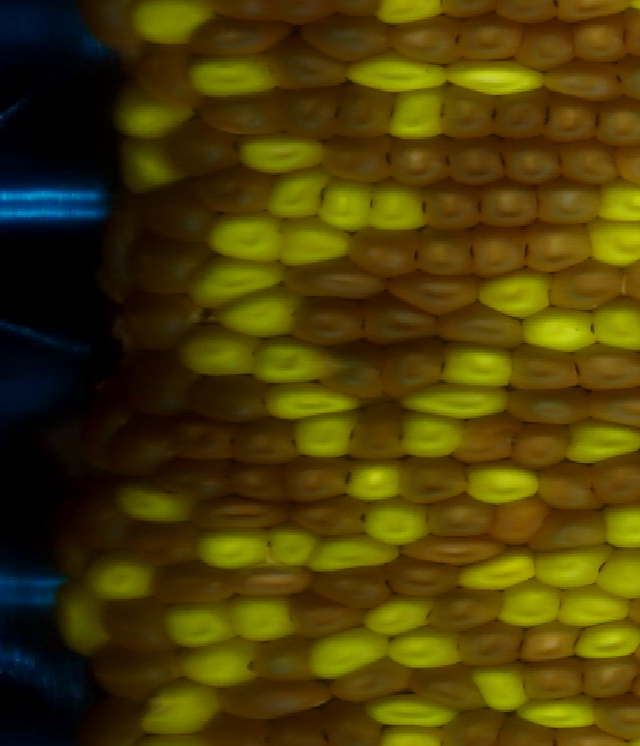fluorescent: (399, 374, 517, 427), (340, 44, 456, 97), (135, 678, 240, 734), (439, 48, 550, 99), (276, 208, 360, 274), (172, 643, 275, 695), (258, 333, 350, 390), (172, 325, 263, 380), (305, 630, 404, 680), (194, 256, 291, 306), (470, 262, 554, 319), (515, 299, 602, 354), (226, 132, 338, 174), (202, 211, 289, 265), (460, 456, 547, 507), (365, 170, 431, 235), (438, 335, 514, 391), (218, 287, 303, 337), (230, 587, 302, 646), (381, 623, 471, 670), (189, 53, 284, 97), (462, 550, 549, 597), (257, 381, 360, 420), (267, 167, 336, 225), (133, 1, 221, 46), (394, 413, 476, 461), (163, 598, 241, 648), (310, 532, 402, 574), (528, 544, 610, 590), (310, 178, 378, 233), (465, 662, 541, 711), (565, 416, 640, 465), (65, 595, 120, 661), (288, 411, 363, 459), (115, 482, 189, 530), (389, 88, 452, 143), (118, 144, 188, 193), (581, 209, 640, 267), (589, 292, 640, 359), (121, 97, 203, 138), (557, 583, 633, 627), (334, 457, 405, 504), (517, 696, 600, 735), (494, 578, 565, 623), (366, 498, 429, 548), (93, 555, 157, 603), (202, 530, 276, 571), (371, 597, 441, 635), (270, 524, 320, 576), (598, 497, 640, 553), (575, 619, 640, 655), (596, 172, 640, 223), (596, 551, 640, 598), (376, 2, 449, 29)
nonfluorescent: (118, 38, 207, 113), (288, 250, 397, 302), (362, 290, 450, 353), (125, 361, 207, 427), (410, 659, 500, 718), (298, 12, 398, 64), (98, 587, 175, 654), (223, 678, 336, 723), (88, 648, 182, 702), (115, 297, 204, 354), (439, 297, 528, 354), (188, 486, 291, 535), (266, 40, 363, 92), (186, 375, 278, 429), (345, 395, 420, 461), (131, 239, 224, 290), (405, 530, 510, 575), (377, 339, 457, 398), (533, 457, 615, 514), (498, 413, 581, 469), (347, 224, 433, 278), (315, 559, 399, 614), (198, 162, 282, 216), (287, 295, 368, 351), (502, 385, 596, 433), (451, 406, 519, 471), (556, 265, 640, 317), (152, 556, 236, 608), (203, 87, 284, 140), (435, 82, 509, 140), (229, 409, 297, 472), (147, 177, 220, 235), (92, 420, 165, 478), (198, 13, 288, 60), (413, 230, 488, 286), (284, 598, 371, 646), (276, 87, 342, 149), (388, 13, 461, 69), (456, 4, 523, 65), (323, 133, 400, 186), (572, 339, 640, 399), (513, 338, 586, 393), (539, 57, 626, 103), (558, 140, 638, 190), (230, 554, 315, 601), (296, 491, 371, 544), (517, 657, 597, 706), (402, 448, 471, 504), (497, 133, 571, 185), (283, 456, 358, 506), (387, 555, 465, 603), (139, 518, 220, 564), (468, 229, 539, 281), (512, 18, 579, 71), (418, 491, 489, 541), (78, 496, 139, 554), (494, 496, 557, 551), (324, 345, 382, 404), (567, 17, 630, 71), (389, 146, 466, 190), (424, 591, 502, 634), (335, 85, 399, 137), (338, 656, 407, 704), (497, 87, 556, 143), (458, 619, 523, 669), (168, 418, 238, 464), (531, 225, 599, 272), (546, 506, 612, 554), (450, 144, 517, 190), (541, 95, 598, 148), (415, 187, 486, 229), (584, 693, 640, 745), (525, 620, 588, 666), (536, 186, 600, 230), (588, 454, 640, 508), (591, 97, 640, 154), (246, 634, 310, 677), (587, 653, 640, 702), (581, 386, 640, 429), (236, 460, 287, 509), (486, 187, 544, 228), (438, 712, 499, 746), (173, 127, 233, 160), (587, 696, 640, 733), (183, 461, 239, 495), (496, 712, 545, 746), (610, 137, 640, 188)
